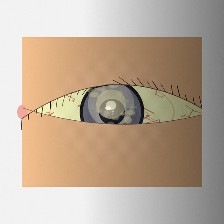corneal_ulcer: (87, 85, 136, 124)
